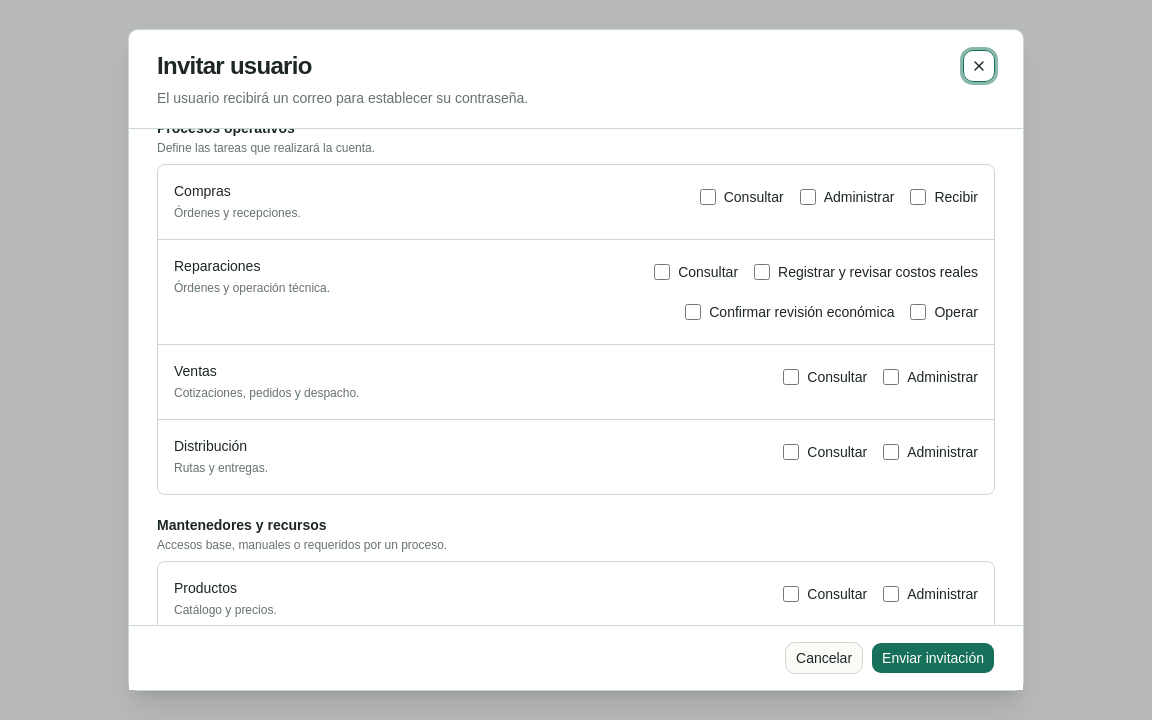
UserForm › separa procesos de mantenedores y elimina dependencias al retirar su origen
(page scrolled)
Click the checkbox named "Ventas: Consultar" at (791, 377), box [783, 369, 799, 385]
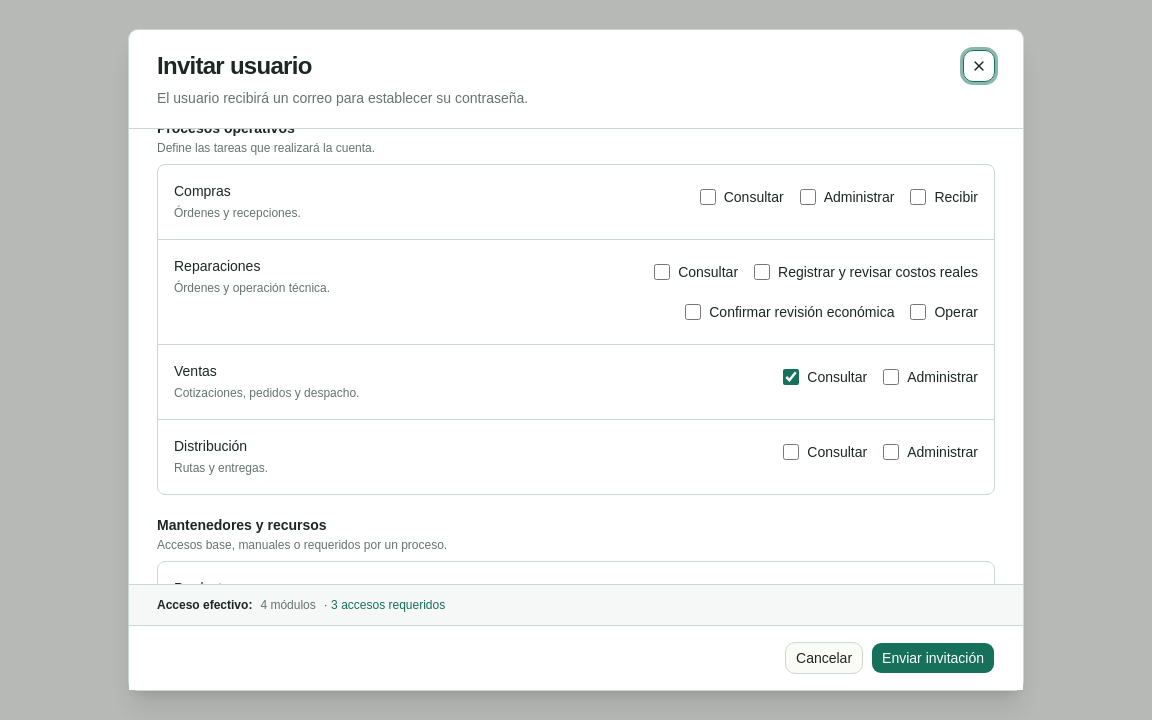
Check: the checkbox named "Ventas: Administrar" is not checked, box [883, 369, 899, 385]
Check: the checkbox named "Distribución: Consultar" is not checked, box [783, 444, 799, 460]
Click the checkbox named "Ventas: Consultar" at (791, 377), box [783, 369, 799, 385]
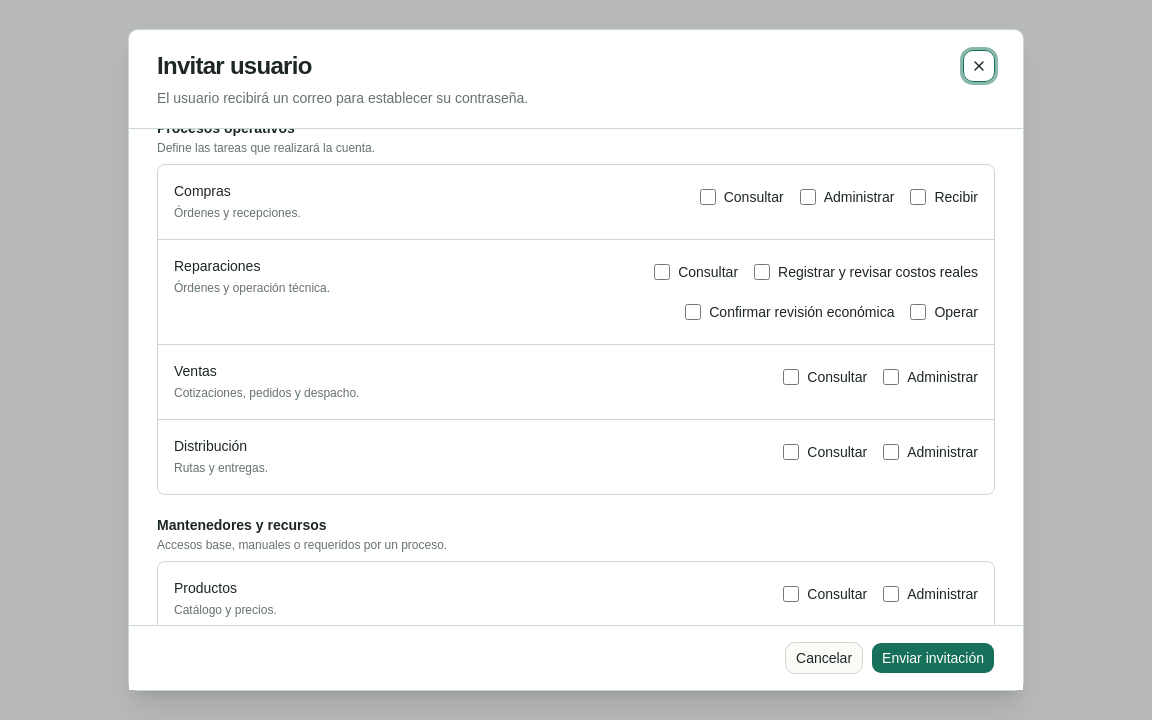
Check: the checkbox named "Productos: Consultar" is not checked, box [783, 586, 799, 602]
